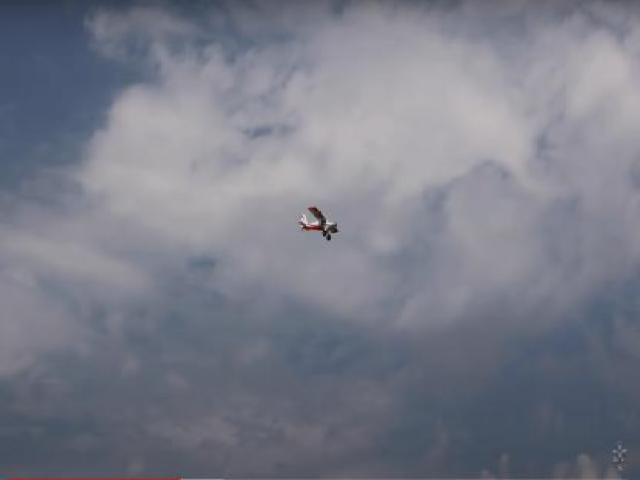uav: (296, 197, 342, 246)
